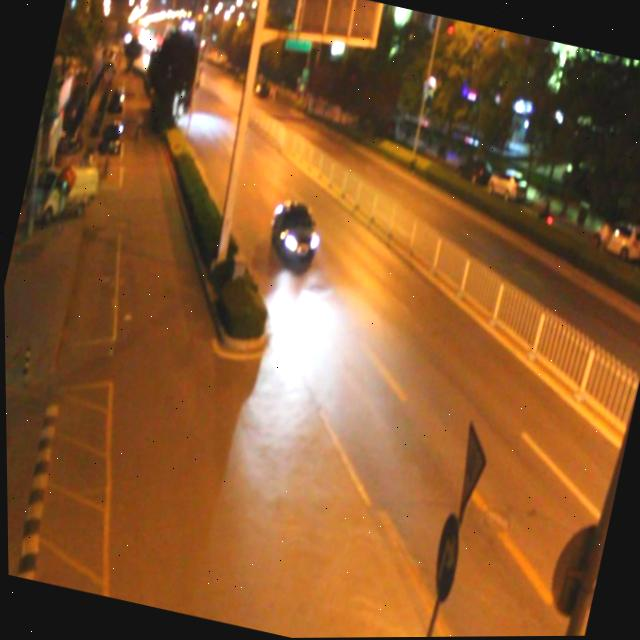car: (262, 197, 325, 269)
